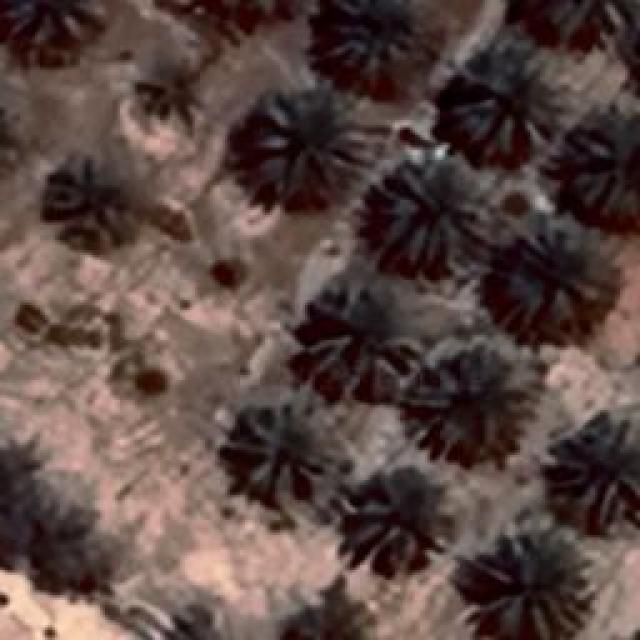PalmTree: (252, 78, 386, 200), (298, 278, 420, 400), (468, 522, 588, 636), (445, 40, 560, 158), (380, 150, 490, 270), (227, 405, 345, 505), (416, 342, 522, 452), (501, 225, 604, 338), (348, 470, 458, 570), (560, 408, 640, 522), (45, 150, 130, 248), (325, 0, 433, 70), (570, 110, 638, 215), (264, 591, 382, 640), (532, 0, 625, 55), (2, 0, 108, 45), (0, 100, 29, 182)
